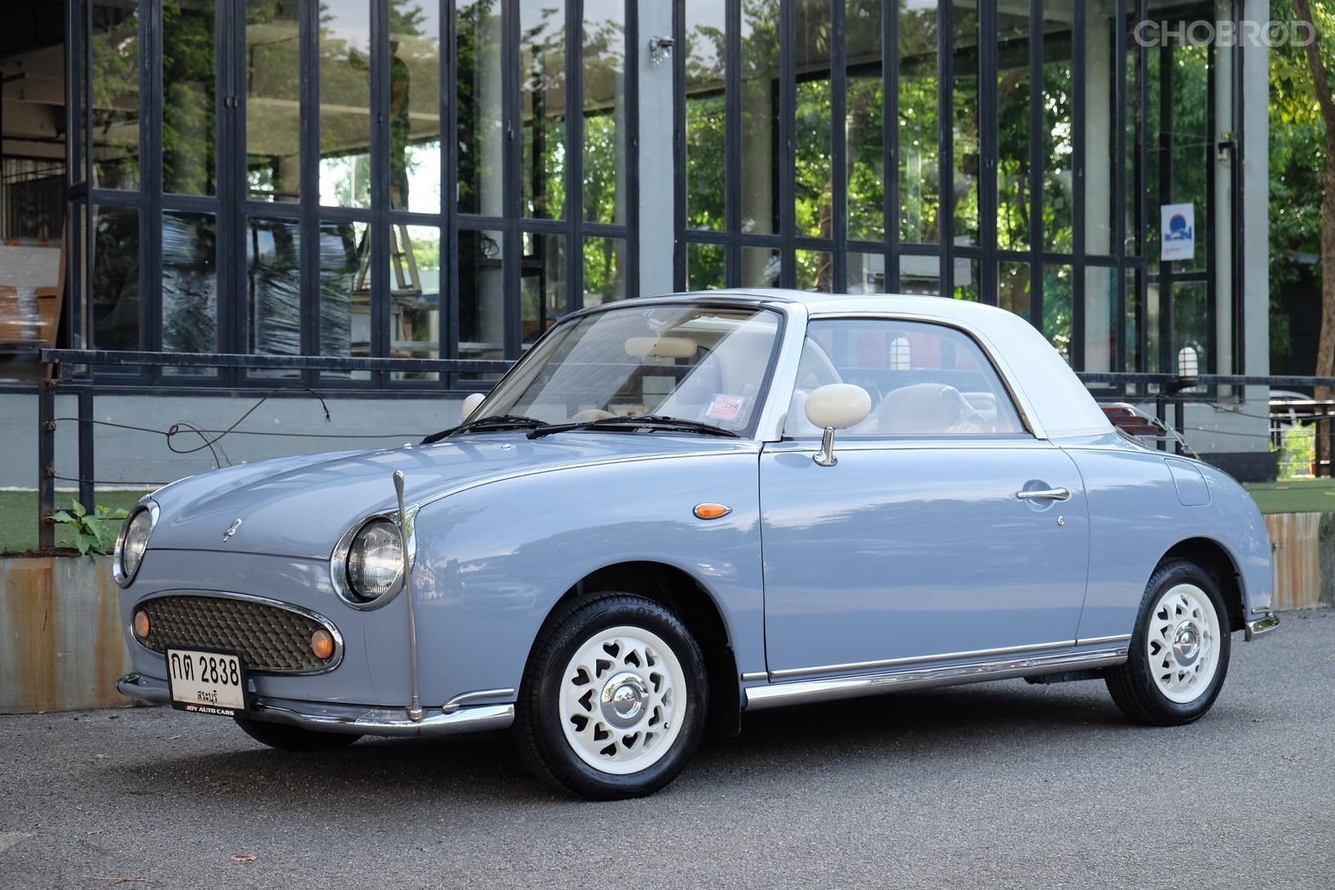license-plate: (162, 643, 252, 723)
